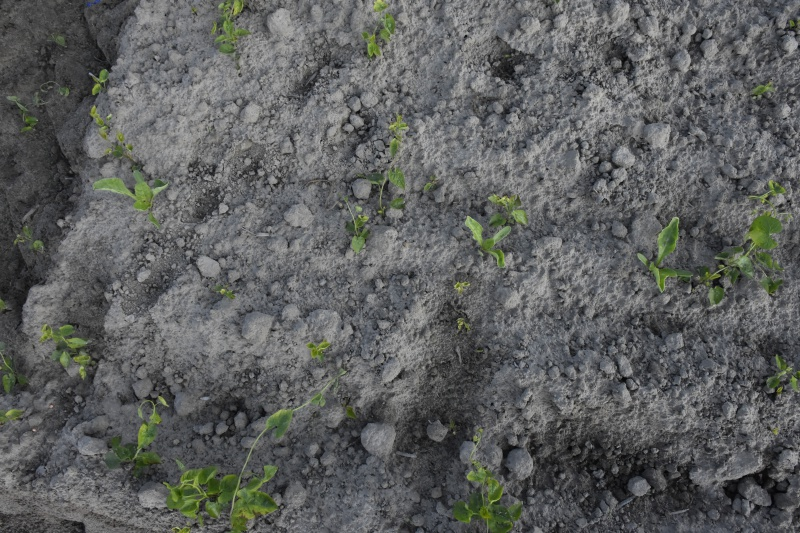field bindweed: (700, 217, 788, 301), (454, 431, 523, 532), (165, 468, 283, 526), (108, 396, 166, 473), (38, 324, 94, 380), (361, 1, 399, 64), (208, 1, 251, 56), (771, 354, 797, 400), (304, 338, 335, 361), (750, 80, 781, 101)
sugar beet: (636, 214, 695, 292), (91, 171, 168, 226), (465, 214, 515, 274)
